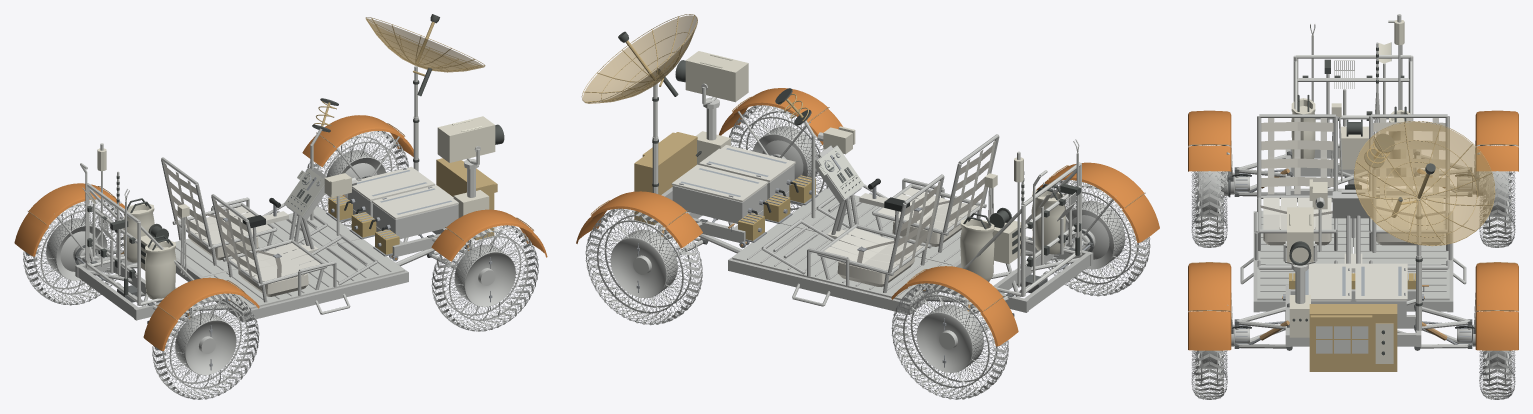
File: rover.lod1.glb
3 renders of one model, left to right at view 1: azimuth 30°, elevation 25°; view 2: azimuth 150°, elevation 25°; view 3: azimuth 270°, elevation 25°, orthographic. The views are drawn at different scales.
Parts seen in each view (by area): view 1: LRV_BeadedFloor, LRV_FoldingSeatFrames, LRV_SeatSlings, LRV_WovenWire_FR, LRV_WovenWire_RR, LRV_StructuralFrames, LRV_SpunHub_RR, LRV_SpunHub_FR, LRV_Chevrons_FR, LRV_RCAColourCameraAndTCU, LRV_ReflectorMesh, LRV_Chevrons_RR (+28 smaller); view 2: LRV_BeadedFloor, LRV_FoldingSeatFrames, LRV_ReflectorMesh, LRV_SeatSlings, LRV_WovenWire_FL, LRV_WovenWire_RL, LRV_StructuralFrames, LRV_SpunHub_FL, LRV_SpunHub_RL, LRV_Chevrons_FL, LRV_RCAColourCameraAndTCU, LRV_FenderSkin_RL (+29 smaller); view 3: LRV_ReflectorMesh, LRV_SeatBackWebbing, LRV_BeadedFloor, LRV_FoldingSeatFrames, LRV_SeatSlings, LRV_RelayBlanketAndEnclosure, LRV_FenderSkin_FL, LRV_FenderSkin_FR, LRV_FenderSkin_RR, LRV_FenderSkin_RL, LRV_StructuralFrames, LRV_ReflectorRibs (+39 smaller).
Boxes of the visible parts, x1,y1,x2,y2 form: LRV_BeadedFloor: [175, 207, 404, 310]; LRV_FoldingSeatFrames: [161, 157, 377, 314]; LRV_SeatSlings: [164, 163, 320, 281]; LRV_WovenWire_FR: [432, 225, 538, 331]; LRV_WovenWire_RR: [152, 293, 258, 399]; LRV_StructuralFrames: [176, 207, 408, 322]; LRV_SpunHub_RR: [175, 312, 236, 375]; LRV_SpunHub_FR: [454, 244, 515, 306]; LRV_Chevrons_FR: [431, 225, 538, 331]; LRV_RCAColourCameraAndTCU: [437, 116, 495, 217]; LRV_ReflectorMesh: [366, 18, 484, 72]; LRV_Chevrons_RR: [152, 293, 259, 399]; LRV_BeadedFloor: [732, 188, 961, 302]; LRV_FoldingSeatFrames: [761, 134, 999, 306]; LRV_ReflectorMesh: [583, 15, 697, 103]; LRV_SeatSlings: [824, 140, 996, 269]; LRV_WovenWire_FL: [586, 208, 702, 324]; LRV_WovenWire_RL: [892, 283, 1008, 399]; LRV_StructuralFrames: [728, 188, 960, 314]; LRV_SpunHub_FL: [610, 229, 677, 298]; LRV_SpunHub_RL: [916, 304, 983, 372]; LRV_Chevrons_FL: [585, 208, 702, 324]; LRV_RCAColourCameraAndTCU: [685, 51, 748, 164]; LRV_FenderSkin_RL: [891, 266, 1018, 346]; LRV_ReflectorMesh: [1354, 122, 1494, 246]; LRV_SeatBackWebbing: [1261, 122, 1445, 186]; LRV_BeadedFloor: [1257, 210, 1449, 300]; LRV_FoldingSeatFrames: [1240, 114, 1466, 284]; LRV_SeatSlings: [1263, 118, 1443, 229]; LRV_RelayBlanketAndEnclosure: [1309, 304, 1397, 371]; LRV_FenderSkin_FL: [1475, 262, 1518, 350]; LRV_FenderSkin_FR: [1188, 262, 1231, 350]; LRV_FenderSkin_RR: [1188, 110, 1231, 171]; LRV_FenderSkin_RL: [1475, 110, 1518, 171]; LRV_StructuralFrames: [1253, 211, 1453, 312]; LRV_ReflectorRibs: [1354, 121, 1495, 245].
Bounding box in the file's own units: 3.42 × 1.89 × 2.1.
